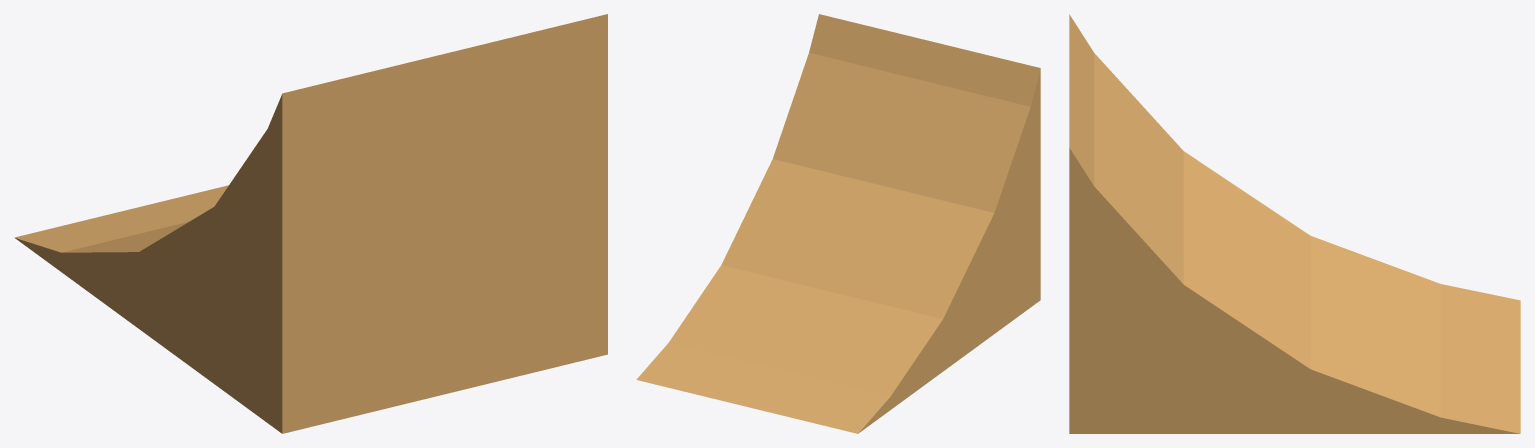
Rendered from Rampa002.fbx.
3 renders of one model, left to right at view 1: azimuth 30°, elevation 25°; view 2: azimuth 150°, elevation 25°; view 3: azimuth 270°, elevation 25°, orthographic. The views are drawn at different scales.
Parts seen in each view (by area): view 1: Cube.017; view 2: Cube.017; view 3: Cube.017.
Boxes of the visible parts, x1,y1,x2,y2 form: Cube.017: (14, 14, 607, 433); Cube.017: (636, 14, 1040, 433); Cube.017: (1069, 14, 1520, 433).
Size of the model in its own units: 200 by 200 by 286.
